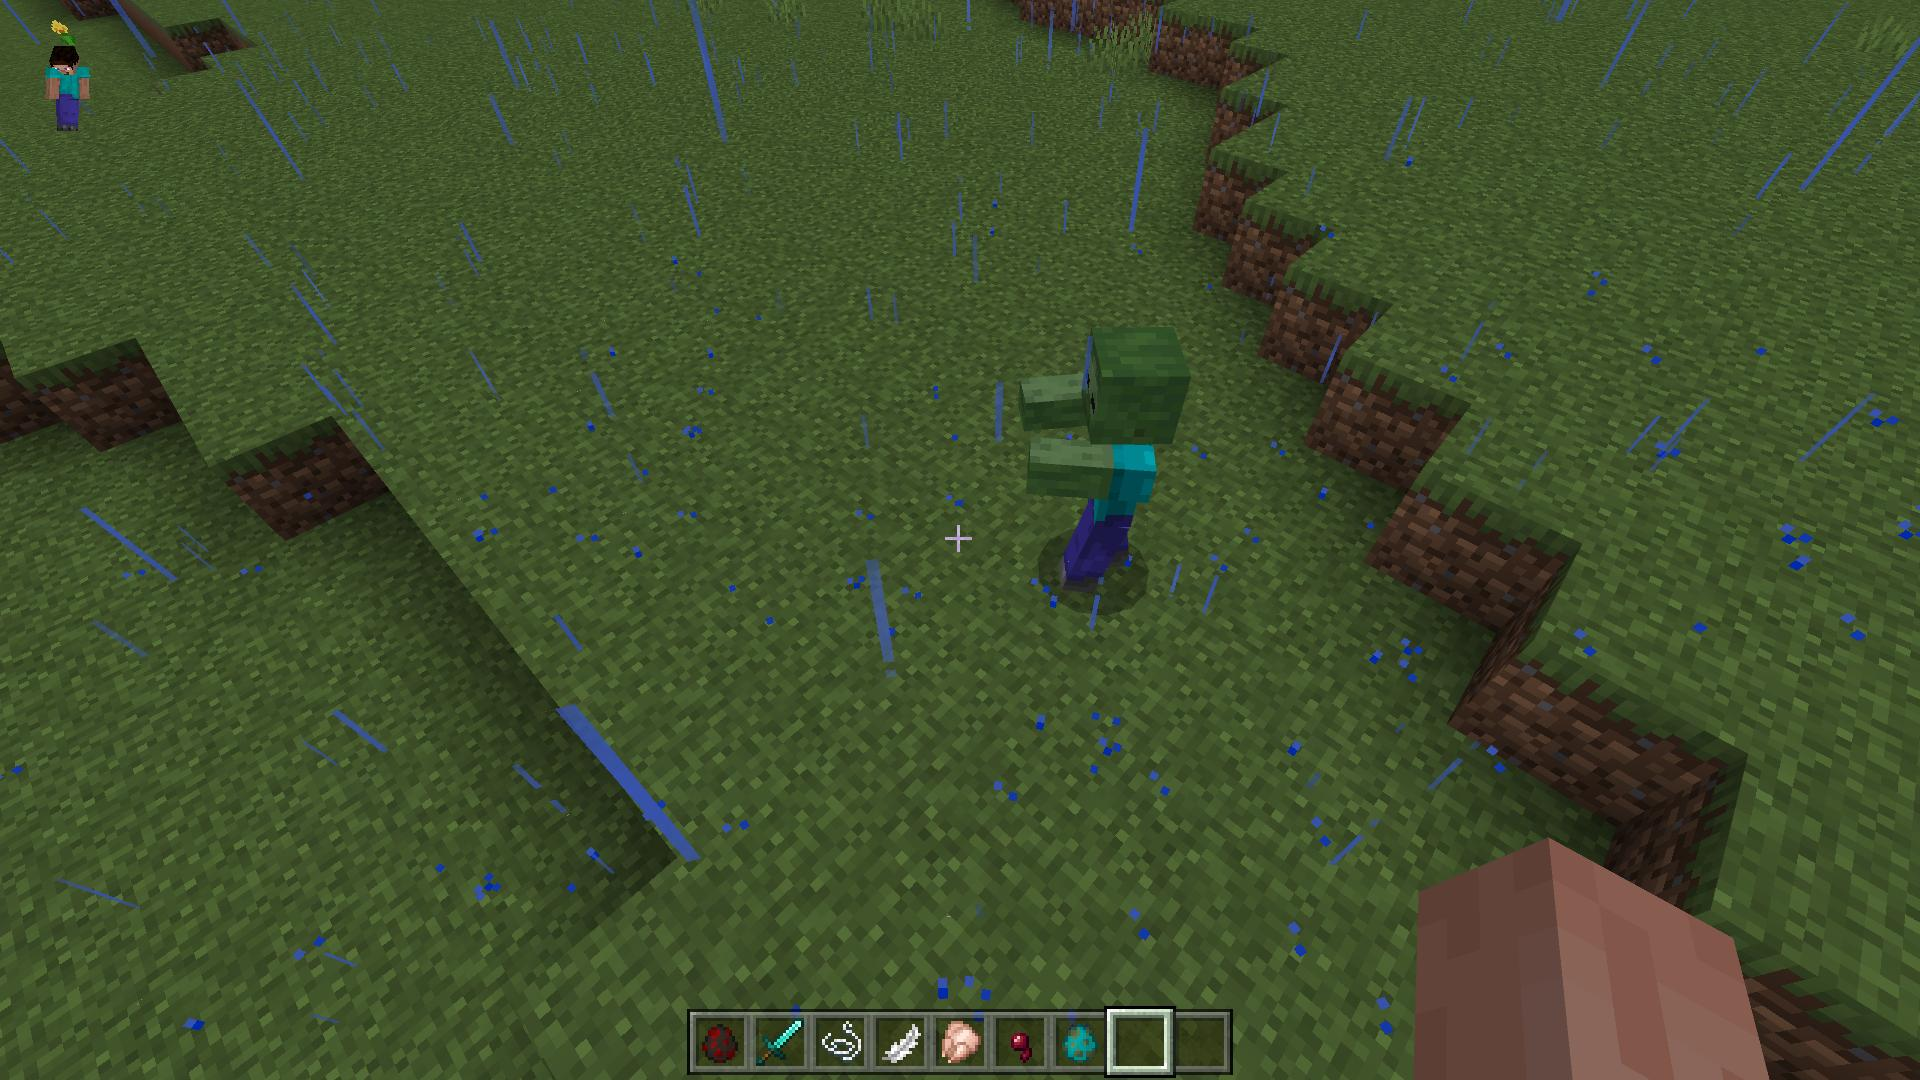zombie: (1011, 322, 1192, 596)
